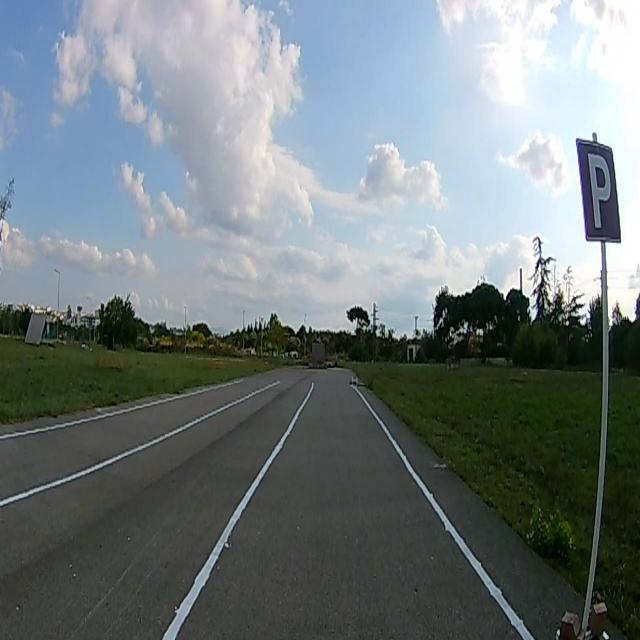park: (576, 138, 621, 241)
